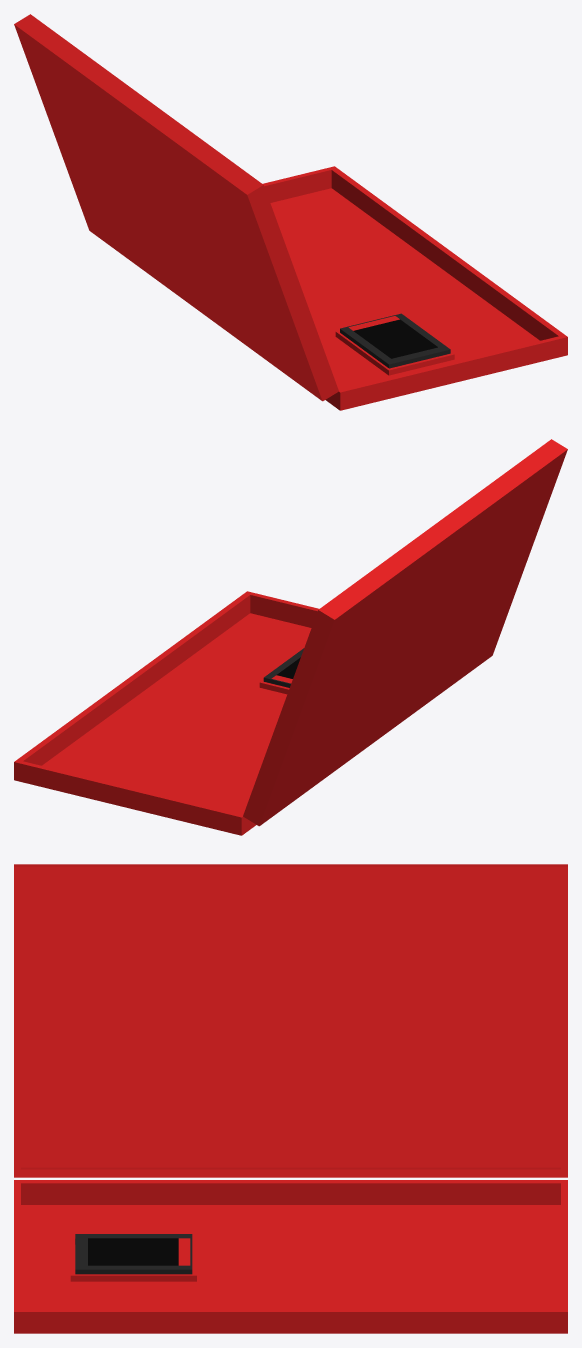
File: Switch-Case.fbx
3 views of the same model, one above another, from view 1: azimuth 30°, elevation 25°; view 2: azimuth 150°, elevation 25°; view 3: azimuth 270°, elevation 25° (orthographic). The views are drawn at different scales.
Parts seen in each view (by area): view 1: Cube.001, Cube, Cube.003, Cube.002; view 2: Cube.001, Cube, Cube.003; view 3: Cube.001, Cube, Cube.003, Cube.002.
Part boxes in pixels (<box>): Cube.001: <box>14,14,338,401</box>; Cube: <box>263,166,567,410</box>; Cube.003: <box>340,313,450,368</box>; Cube.002: <box>335,330,454,375</box>; Cube.001: <box>243,439,567,826</box>; Cube: <box>14,591,318,835</box>; Cube.003: <box>263,648,303,687</box>; Cube.001: <box>14,864,567,1177</box>; Cube: <box>14,1180,567,1333</box>; Cube.003: <box>75,1234,192,1274</box>; Cube.002: <box>70,1237,196,1281</box>.
Size of the model in its own units: 135 by 101 by 170.
